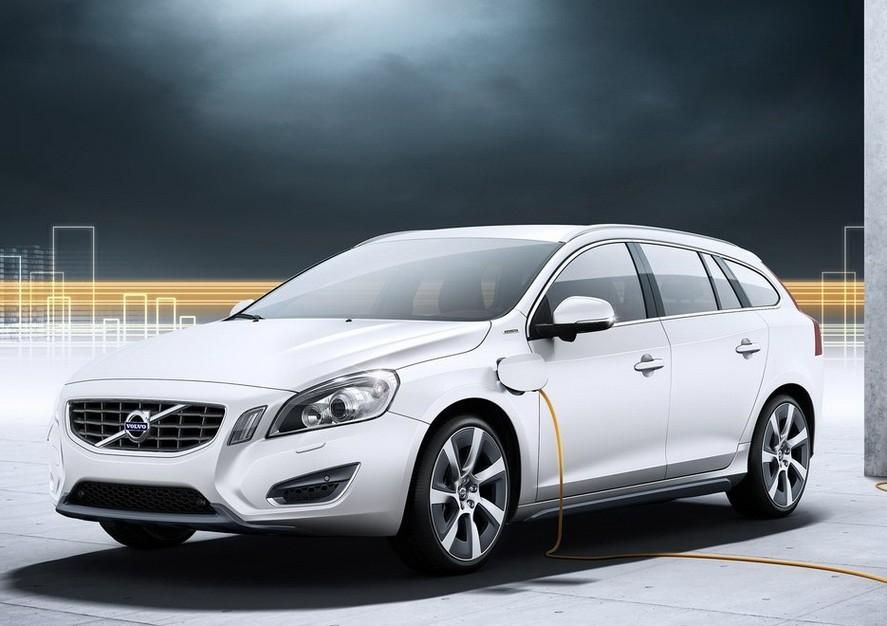Wagon: (51, 224, 823, 575)
